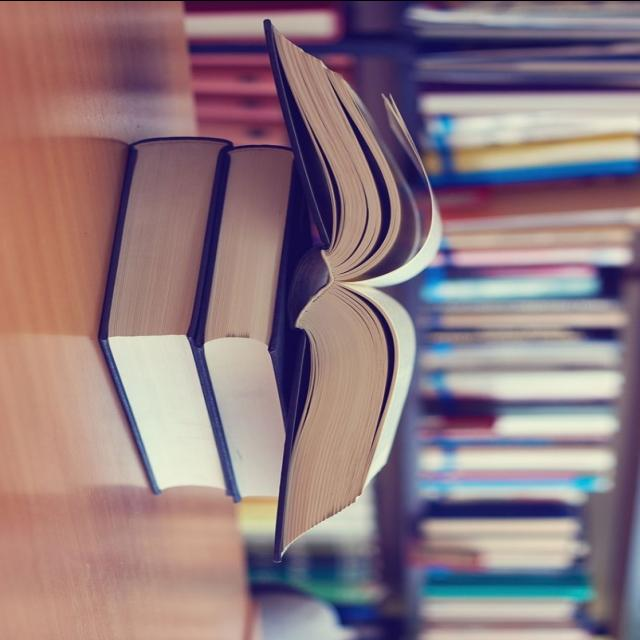book: (258, 14, 461, 570)
